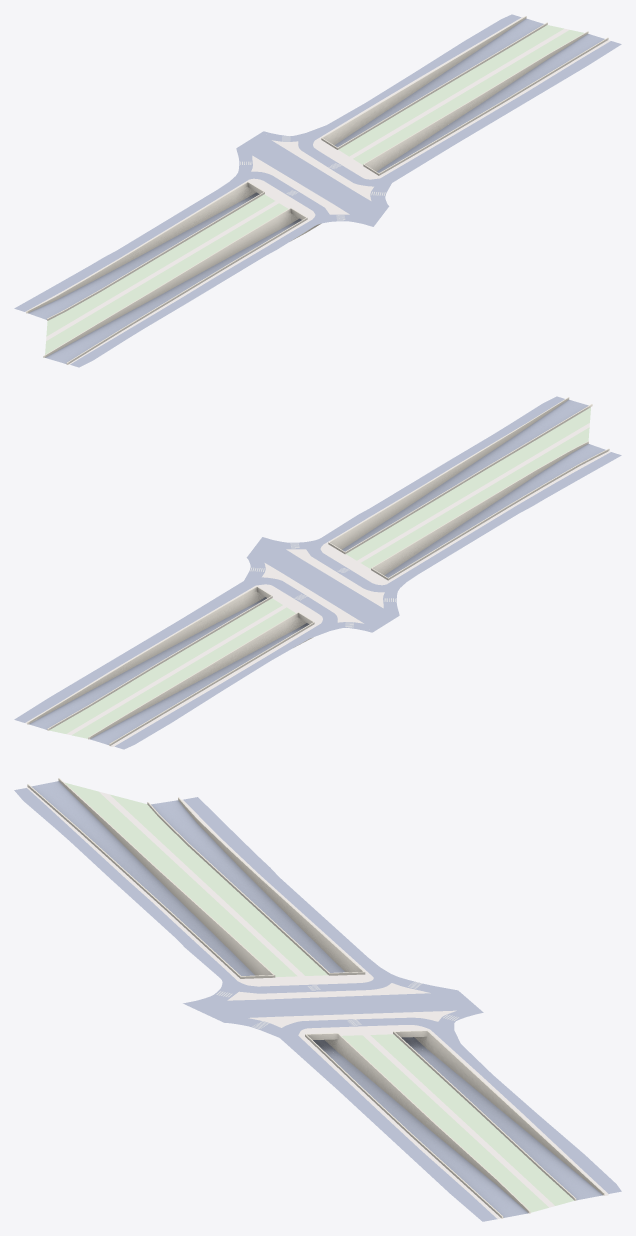
File: Rozibakiev-Raymbek.glb
3 views of the same model, one above another, from view 1: azimuth 30°, elevation 25°; view 2: azimuth 210°, elevation 25°; view 3: azimuth 270°, elevation 25° (orthographic). The views are drawn at different scales.
Visible parts, largest first — view 1: group_0.004, group_2.001, group_3.001, group_1.003; view 2: group_0.004, group_2.001, group_3.001, group_1.003; view 3: group_0.004, group_3.001, group_2.001, group_1.003.
Boxes of the visible parts, x1,y1,x2,y2 form: group_0.004: [14, 14, 621, 367]; group_2.001: [26, 16, 608, 364]; group_3.001: [45, 25, 583, 354]; group_1.003: [25, 17, 610, 364]; group_0.004: [14, 396, 621, 749]; group_2.001: [27, 397, 609, 745]; group_3.001: [49, 407, 590, 738]; group_1.003: [25, 423, 610, 746]; group_0.004: [14, 781, 621, 1221]; group_3.001: [65, 782, 574, 1212]; group_2.001: [27, 778, 604, 1218]; group_1.003: [26, 787, 608, 1218].
Size of the model in its own units: 413 by 8 by 241.
Materials: 5 (2 with a texture image).
